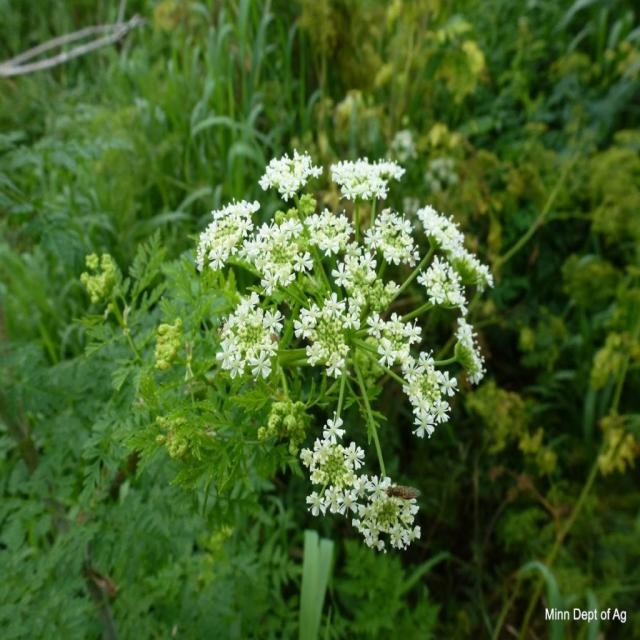Poisonous-Hemlock: (200, 136, 502, 640)
